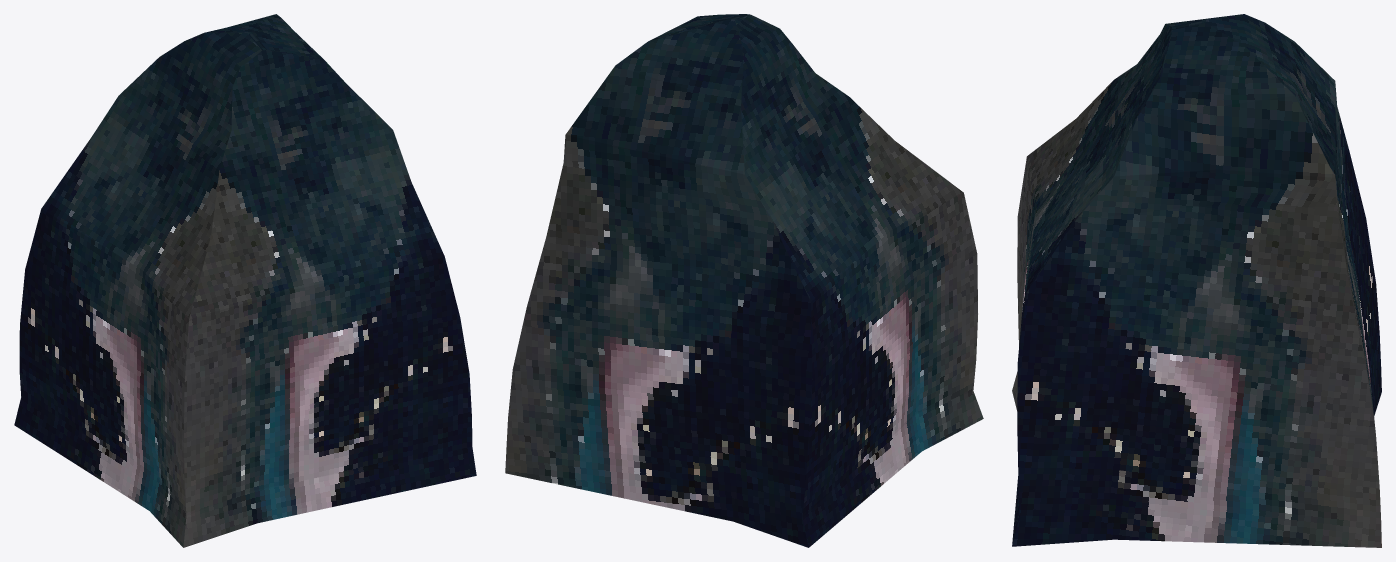
3 renders of one model, left to right at view 1: azimuth 30°, elevation 25°; view 2: azimuth 150°, elevation 25°; view 3: azimuth 270°, elevation 25°, orthographic. The views are drawn at different scales.
Parts seen in each view (by area): view 1: SPLICE_2; view 2: SPLICE_2; view 3: SPLICE_2.
Part boxes in pixels (x1,y1,x2,y2): SPLICE_2: [14, 14, 476, 547]; SPLICE_2: [505, 14, 983, 547]; SPLICE_2: [1012, 14, 1381, 547].
Size of the model in its own units: 0.9172 by 1.24 by 0.9156.
1 material, 1 textured.
